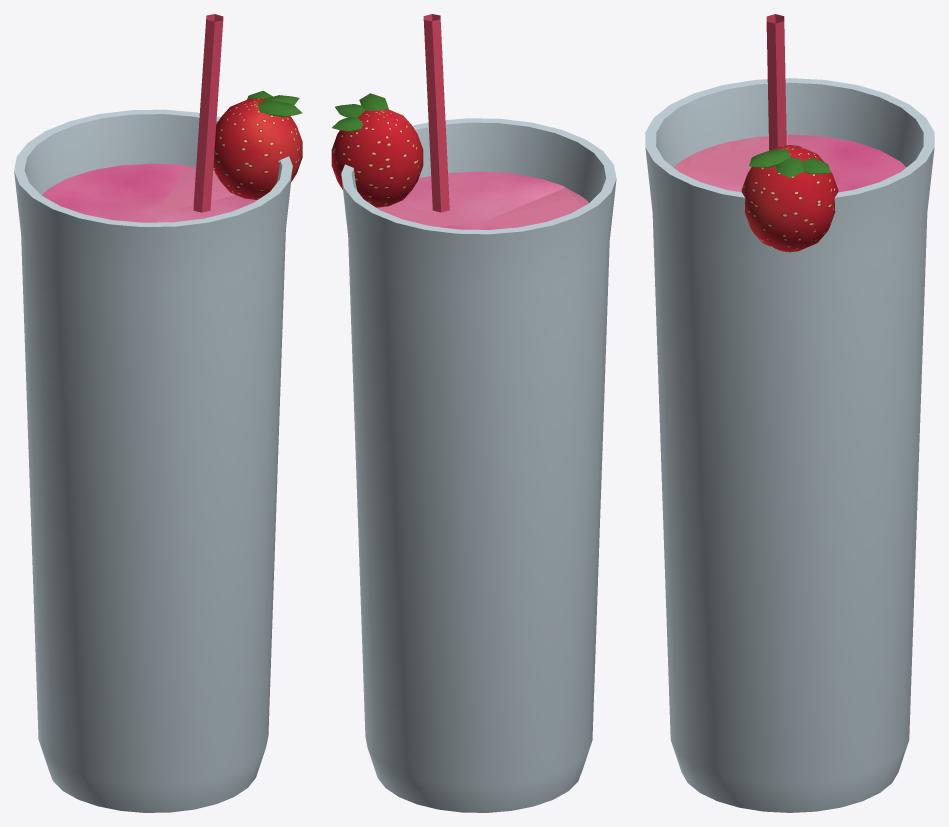
File: drink_smoothie_strawberry_tall.glb
3 renders of one model, left to right at view 1: azimuth 30°, elevation 25°; view 2: azimuth 150°, elevation 25°; view 3: azimuth 270°, elevation 25°, orthographic. The views are drawn at different scales.
Visible parts, largest first — view 1: drink_smoothie_strawberry_tall; view 2: drink_smoothie_strawberry_tall; view 3: drink_smoothie_strawberry_tall.
Boxes of the visible parts, x1=… form: drink_smoothie_strawberry_tall: x1=14, y1=14, x2=302, y2=812; drink_smoothie_strawberry_tall: x1=331, y1=14, x2=616, y2=812; drink_smoothie_strawberry_tall: x1=645, y1=14, x2=934, y2=812.
Size of the model in its own units: 0.0884 by 0.2352 by 0.0794.
Materials: 6 (2 with a texture image).
